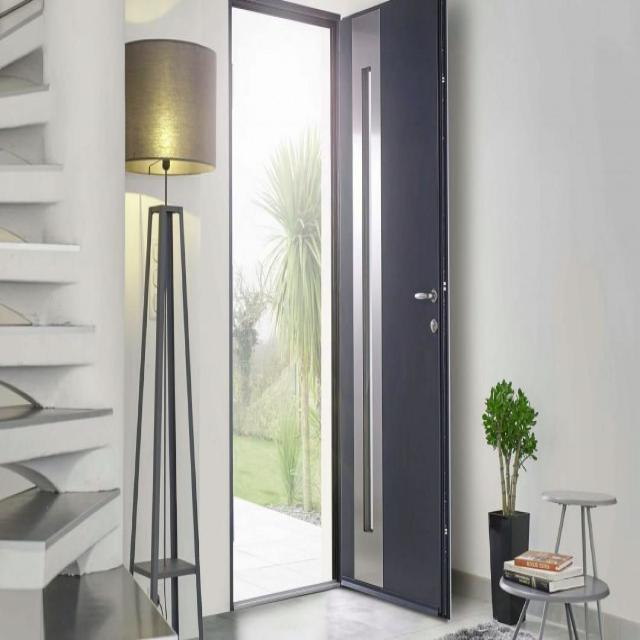door: (337, 0, 450, 619)
